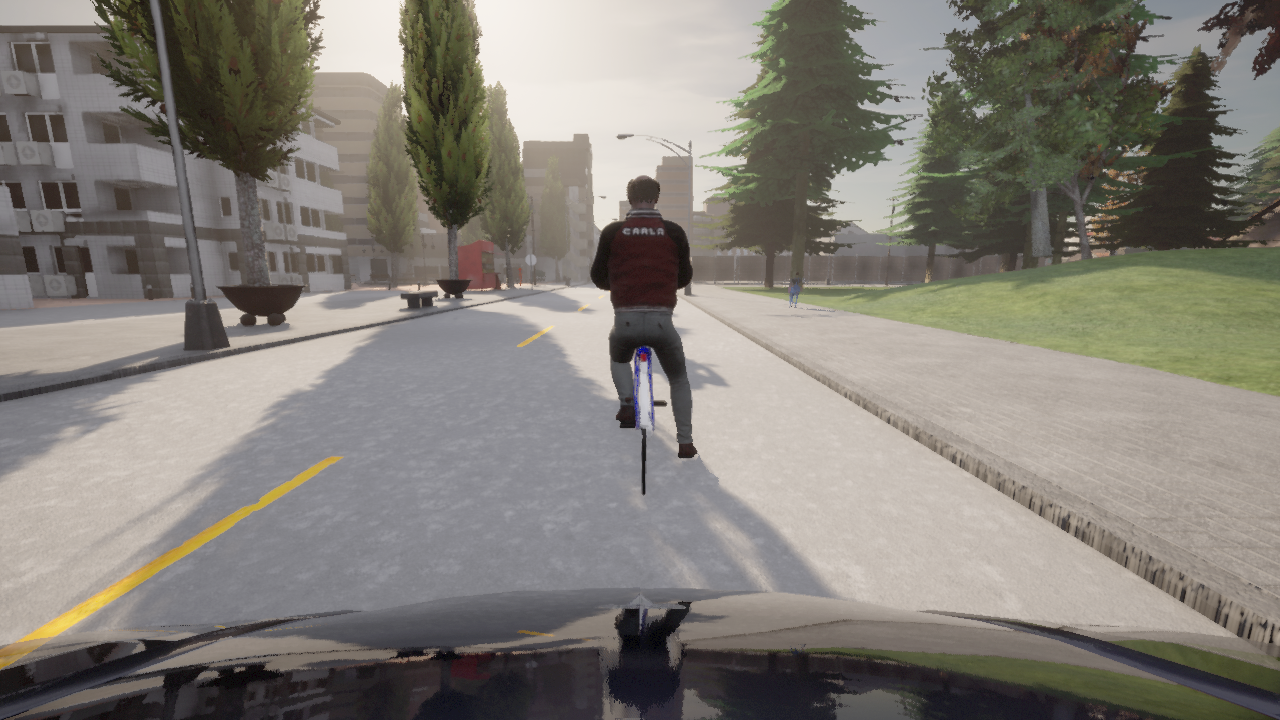cyclist: (0, 588, 1279, 719), (619, 346, 666, 494), (803, 277, 807, 282)
pedestrian: (789, 271, 802, 308), (516, 263, 524, 288)
